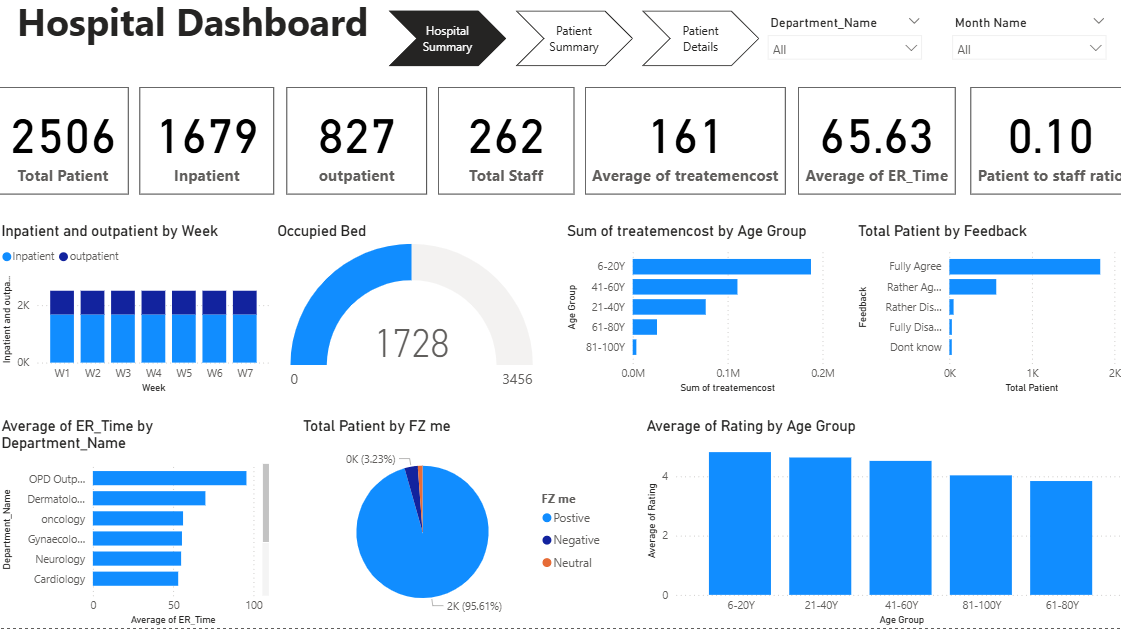

The dashboard page shown, as its layout file describes it:
{"tool":"powerbi","page":{"name":"Hospital Summary","canvas":[1280,720],"ordinal":0},"visuals":[{"type":"card","fields":{"Values":["Measure.Total Patient"]},"box":[0,108.5,149,121.4],"z":0},{"type":"card","fields":{"Values":["Measure.Inpatient"]},"box":[160.3,108.5,152.2,121.4],"z":1000},{"type":"card","fields":{"Values":["Measure.outpatient"]},"box":[327.1,108.5,158.7,121.4],"z":2000},{"type":"card","fields":{"Values":["Measure.Total Staff"]},"box":[498.7,108.5,153.8,121.4],"z":3000},{"type":"card","fields":{"Values":["Avg(Detail data dataset.treatemencost)"]},"box":[663.9,108.5,226.7,121.4],"z":4000},{"type":"card","fields":{"Values":["Avg(Detail data dataset.ER_Time)"]},"box":[905.1,108.5,178.1,121.4],"z":5000},{"type":"card","fields":{"Values":["Measure.Patient to staff ratio"]},"box":[1099.5,108.5,181.4,121.4],"z":6000},{"type":"slicer","fields":{"Values":["Department.Department_Name"]},"box":[861.4,22.7,194.3,63.1],"z":7000},{"type":"slicer","fields":{"Values":["Date.Month Name"]},"box":[1070.3,22.7,194.3,63.1],"z":8000},{"type":"textbox","box":[0,0,442,68],"z":9000},{"type":"pageNavigator","box":[442,22.7,419.4,63.1],"z":10000},{"type":"columnChart","fields":{"Y":["Measure.Inpatient","Measure.outpatient"],"Category":["Date.Week"]},"box":[0,260.7,312.5,197.5],"z":11000},{"type":"gauge","fields":{"Y":["Measure.Occupied Bed"]},"box":[312.5,260.7,312.5,197.5],"z":12000},{"type":"barChart","fields":{"Y":["Sum(Detail data dataset.treatemencost)"],"Category":["Detail data dataset.Age Group"]},"box":[639.6,260.7,312.5,197.5],"z":13000},{"type":"barChart","fields":{"Category":["Detail data dataset.Feedback"],"Y":["Measure.Total Patient"]},"box":[968.3,260.7,312.5,197.5],"z":14000},{"type":"barChart","fields":{"Y":["Avg(Detail data dataset.ER_Time)"],"Category":["Department.Department_Name"]},"box":[0,480.9,312.5,239.6],"z":15000},{"type":"pieChart","fields":{"Y":["Measure.Total Patient"],"Category":["Detail data dataset.FZ me"]},"box":[340,480.9,354.6,239.6],"z":16000},{"type":"columnChart","fields":{"Y":["Avg(Detail data dataset.Rating)"],"Category":["Detail data dataset.Age Group"]},"box":[728.7,480.9,552.2,239.6],"z":17000}]}

Visuals, with their boxes in screenshot pixels (x1, y1, x2, y2), scaled from the page's 1280x720 canvas onto the 1121x629 screenshot:
card - Measure.Total Patient: detection(0, 95, 130, 201)
card - Measure.Inpatient: detection(140, 95, 274, 201)
card - Measure.outpatient: detection(286, 95, 425, 201)
card - Measure.Total Staff: detection(437, 95, 571, 201)
card - Avg(Detail data dataset.treatemencost): detection(581, 95, 780, 201)
card - Avg(Detail data dataset.ER_Time): detection(793, 95, 949, 201)
card - Measure.Patient to staff ratio: detection(963, 95, 1120, 201)
slicer - Department.Department_Name: detection(754, 20, 925, 75)
slicer - Date.Month Name: detection(937, 20, 1108, 75)
textbox: detection(0, 0, 387, 59)
pageNavigator: detection(387, 20, 754, 75)
columnChart - Measure.Inpatient x Measure.outpatient: detection(0, 228, 274, 400)
gauge - Measure.Occupied Bed: detection(274, 228, 547, 400)
barChart - Sum(Detail data dataset.treatemencost) x Detail data dataset.Age Group: detection(560, 228, 834, 400)
barChart - Detail data dataset.Feedback x Measure.Total Patient: detection(848, 228, 1120, 400)
barChart - Avg(Detail data dataset.ER_Time) x Department.Department_Name: detection(0, 420, 274, 628)
pieChart - Measure.Total Patient x Detail data dataset.FZ me: detection(298, 420, 608, 628)
columnChart - Avg(Detail data dataset.Rating) x Detail data dataset.Age Group: detection(638, 420, 1120, 628)
